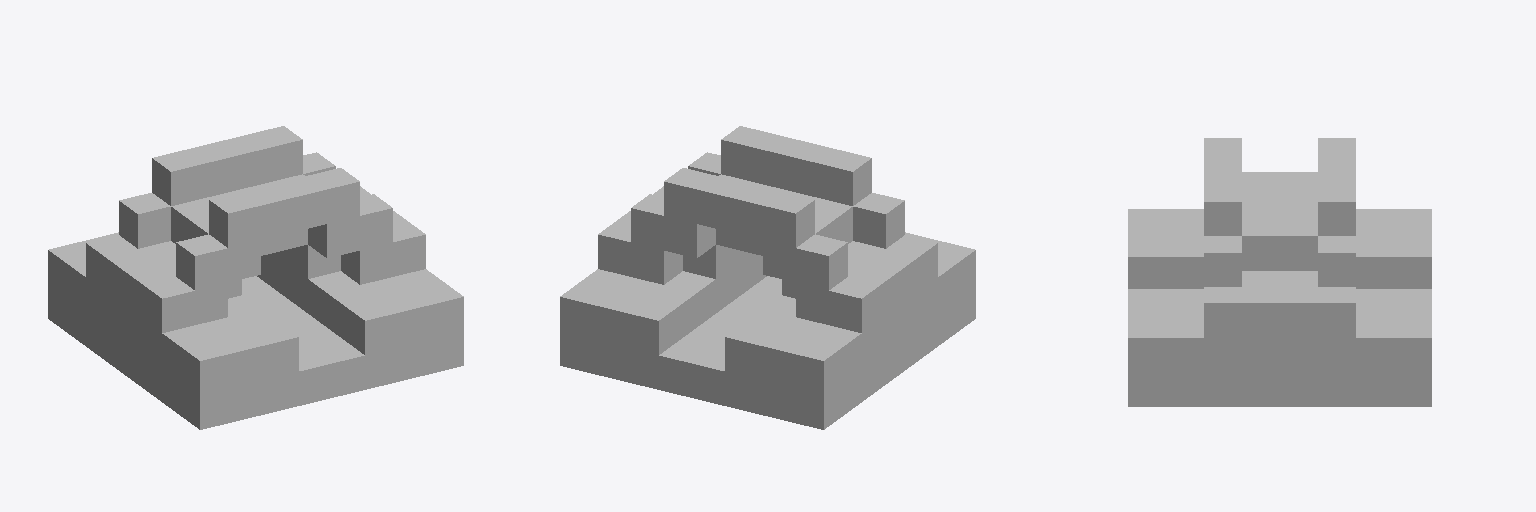
Rendered from bridge.obj.
3 renders of one model, left to right at view 1: azimuth 30°, elevation 25°; view 2: azimuth 150°, elevation 25°; view 3: azimuth 270°, elevation 25°, orthographic.
Parts seen in each view (by area): view 1: object 1; view 2: object 1; view 3: object 1.
Part boxes in pixels (x1,y1,x2,y2): object 1: (48,126,463,429); object 1: (560,126,975,429); object 1: (1128,138,1431,406).
Size of the model in its own units: 0.8 by 0.5 by 0.8.